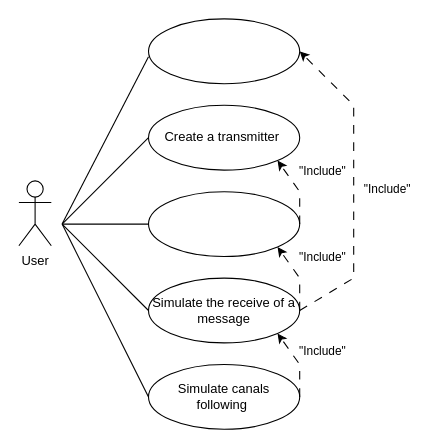
Some shapes in this 429 by 448 pixel diagram are drawn without their labels. Here are the shapes that lost their labels. From the top down, the centre of each, then its label:
At (223,51): "Create a receiver".
At (223,223): "Simulate the send of a message".
